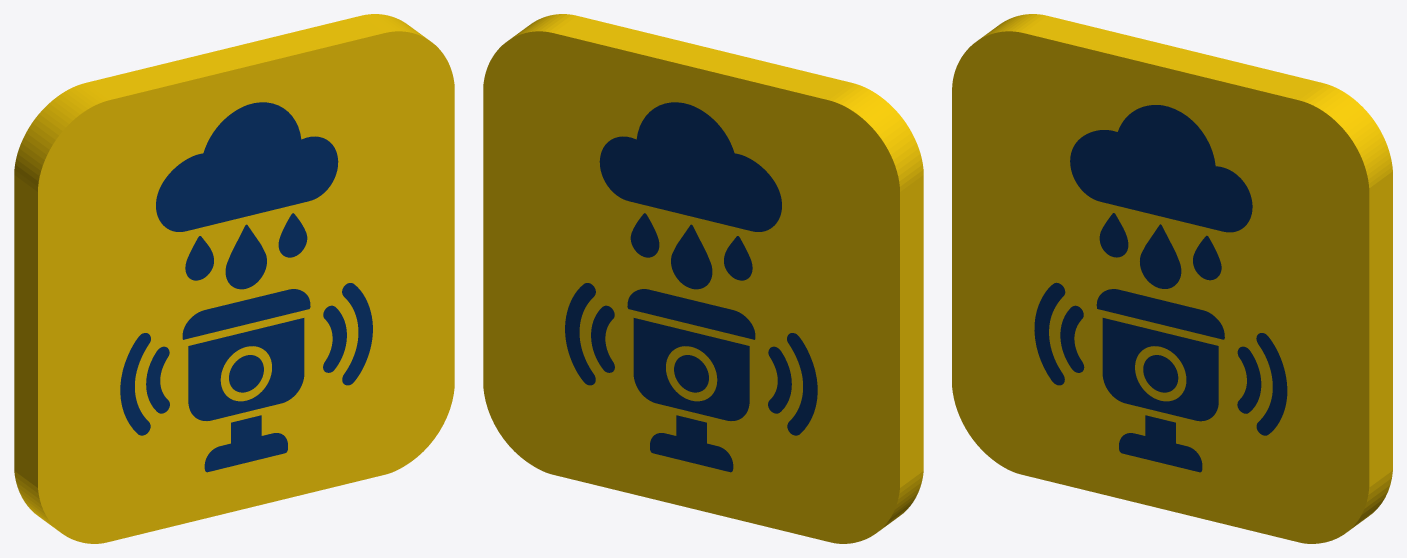
File: Icono_Sensor.fbx
3 views of the same model, side by side, from view 1: azimuth 30°, elevation 25°; view 2: azimuth 150°, elevation 25°; view 3: azimuth 330°, elevation 25° (orthographic).
Parts seen in each view (by area): view 1: Sensor Icono; view 2: Sensor Icono; view 3: Sensor Icono.
Part boxes in pixels (bbox=[...]): Sensor Icono: bbox=[14, 14, 454, 543]; Sensor Icono: bbox=[483, 14, 923, 543]; Sensor Icono: bbox=[952, 14, 1392, 543].
Bounding box in the file's own units: 195 × 198 × 19.23.
